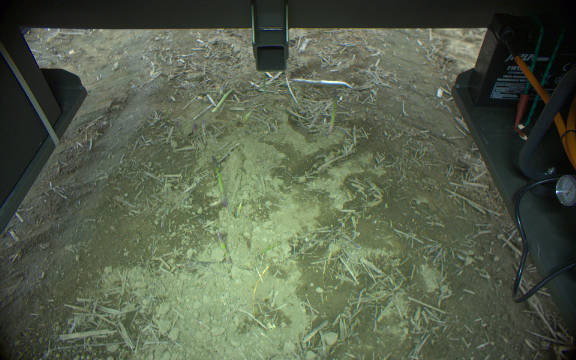aspa: (209, 156, 228, 205), (325, 87, 339, 132), (214, 227, 230, 264), (211, 87, 233, 111)
